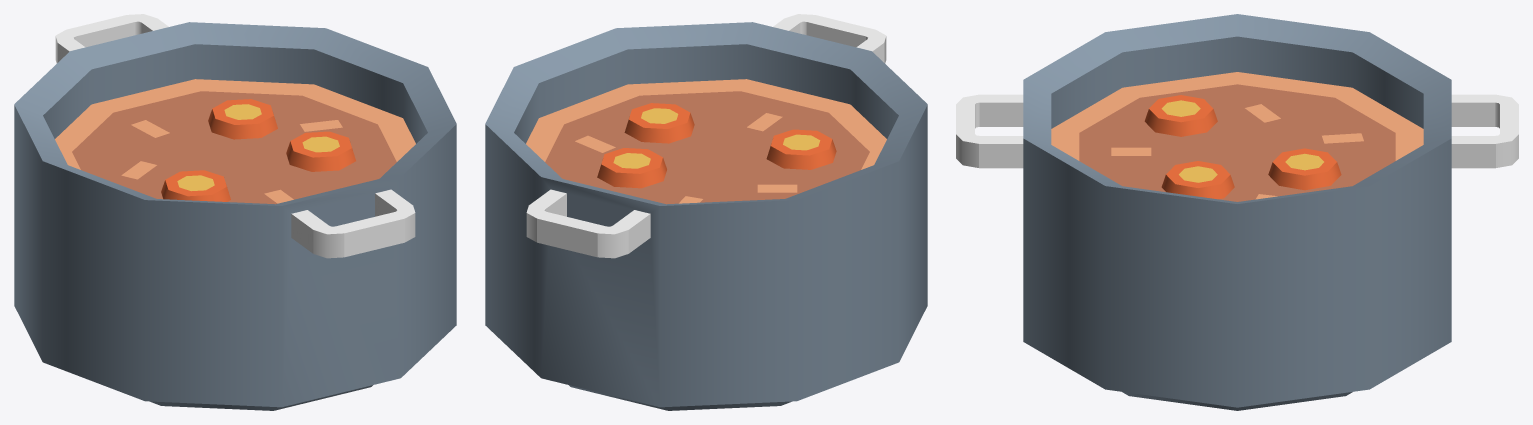
The model's file is potStew.dae.
3 renders of one model, left to right at view 1: azimuth 30°, elevation 25°; view 2: azimuth 150°, elevation 25°; view 3: azimuth 270°, elevation 25°, orthographic.
Visible parts, largest first — view 1: potStew; view 2: potStew; view 3: potStew.
Boxes of the visible parts, left/top/right/bottom form: potStew: left=14, top=14, right=456, bottom=410; potStew: left=485, top=14, right=927, bottom=410; potStew: left=956, top=14, right=1518, bottom=410.
Size of the model in its own units: 0.6575 by 0.3608 by 0.8221.
